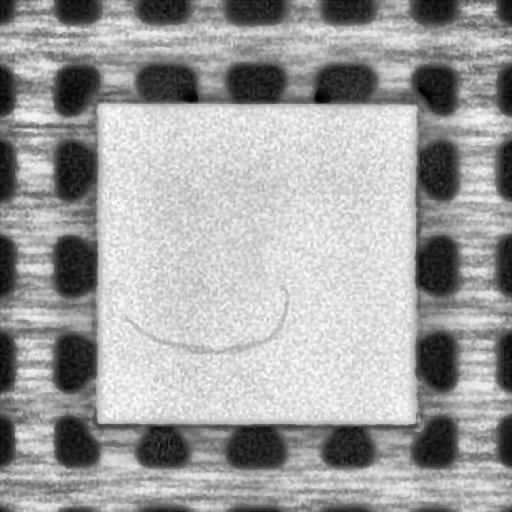DIE_CRACK: (124, 282, 288, 356)
